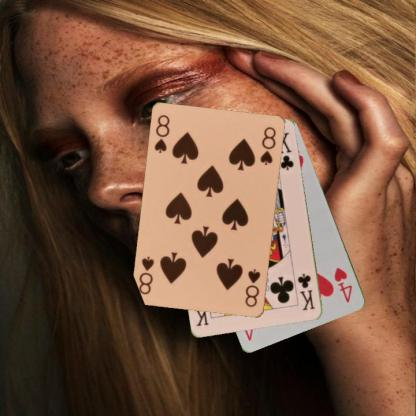4h: (332, 264, 354, 304)
8s: (242, 267, 262, 309), (152, 112, 171, 155)
Kc: (295, 271, 317, 312)
